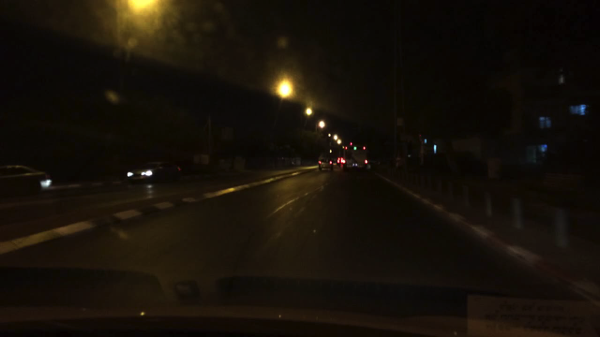car: (1, 165, 52, 198), (125, 160, 182, 185), (318, 155, 335, 171), (337, 157, 342, 166)
traffic sign: (398, 119, 404, 125)
truck: (342, 144, 368, 171)
